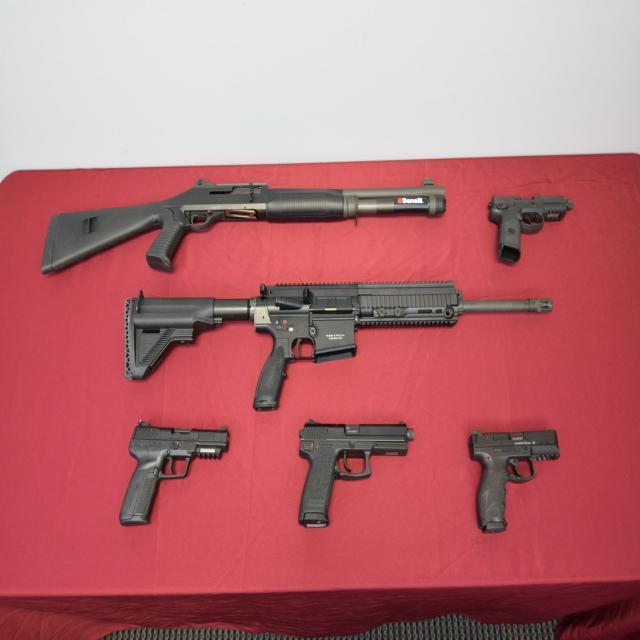HandGun: (298, 420, 414, 528), (119, 421, 228, 526), (469, 429, 560, 533), (488, 195, 574, 266)
Rifle: (125, 282, 555, 412)
ShotGun: (41, 179, 448, 275)
